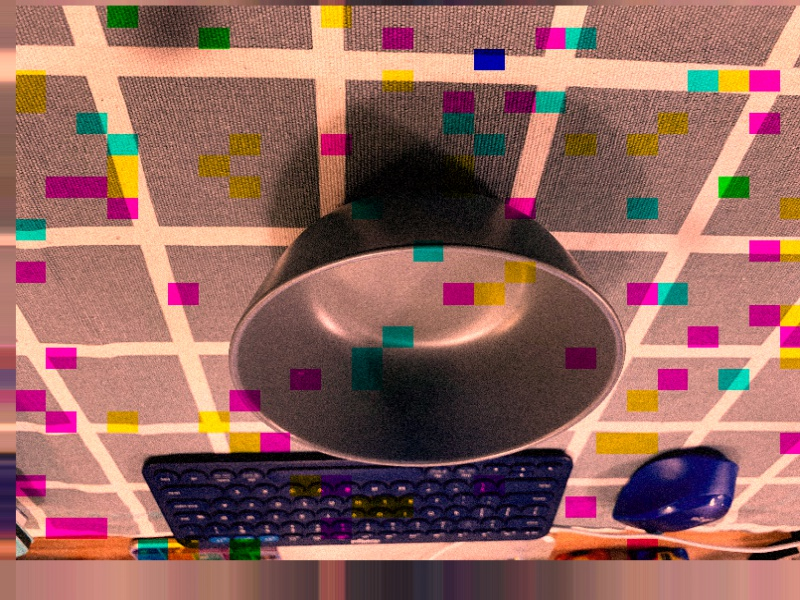bowl_big: (222, 182, 635, 470)
